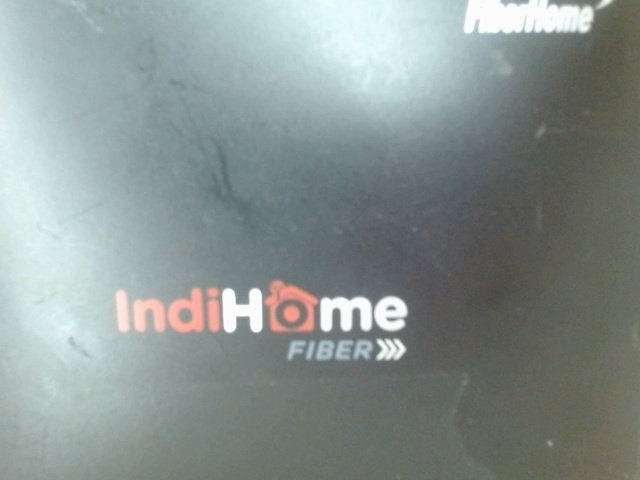AF_IndiHome: (102, 277, 416, 371)
